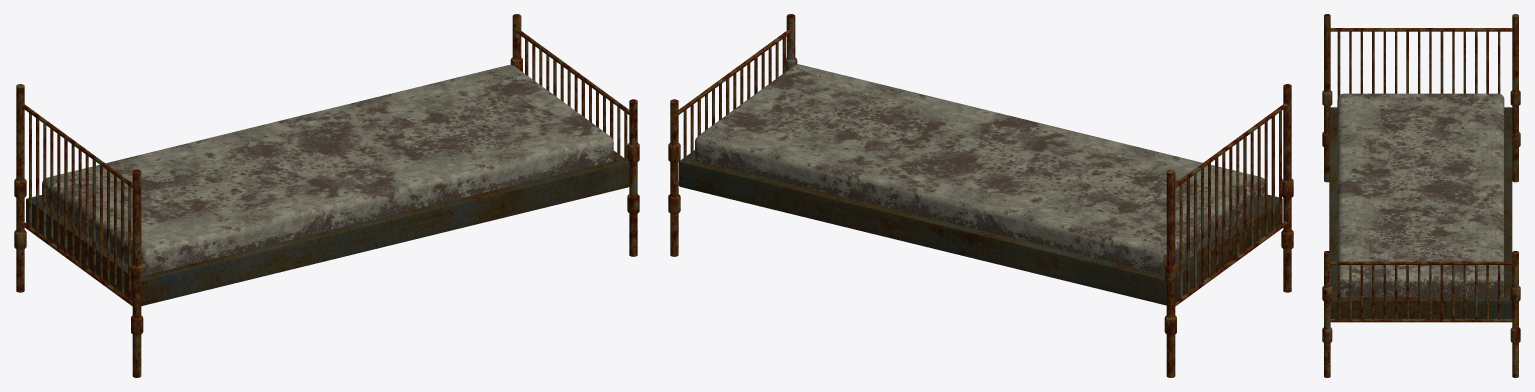
Rendered from bed.fbx.
3 renders of one model, left to right at view 1: azimuth 30°, elevation 25°; view 2: azimuth 150°, elevation 25°; view 3: azimuth 270°, elevation 25°, orthographic. The views are drawn at different scales.
Parts seen in each view (by area): view 1: bed; view 2: bed; view 3: bed.
Part boxes in pixels (box(x1,y1,x2,y2)): bed: box(14, 14, 639, 377); bed: box(668, 14, 1293, 377); bed: box(1322, 14, 1520, 377).
Size of the model in its own units: 207 by 79.89 by 86.69.
Materials: 1 (1 with a texture image).
